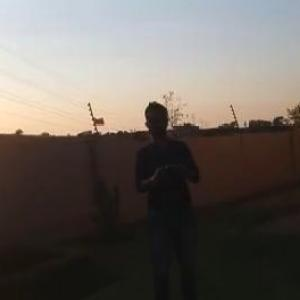follow: (127, 95, 209, 299)
